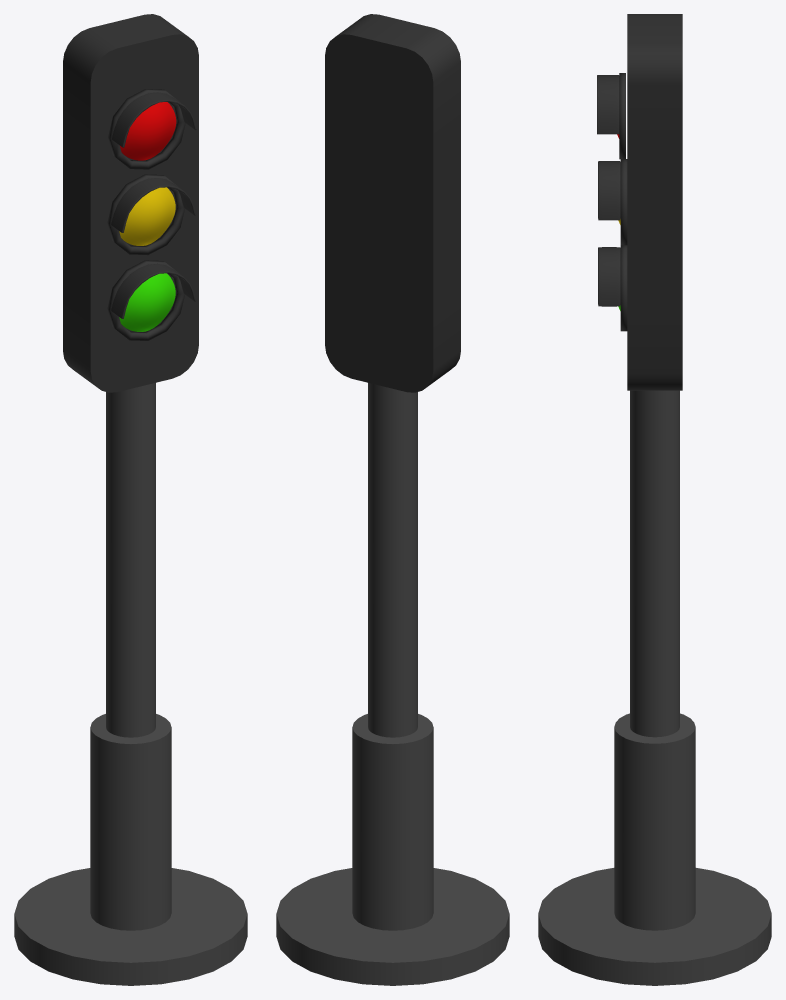
Rendered from traffic_PRETEXTURE_000.fbx.
3 views of the same model, side by side, from view 1: azimuth 30°, elevation 25°; view 2: azimuth 150°, elevation 25°; view 3: azimuth 270°, elevation 25° (orthographic).
Visible parts, largest first — view 1: 柱体, 立方体, 立方体.003, 立方体.009, 立方体.006, 立方体.007, 立方体.001, 立方体.004, 立方体.005, 立方体.008, 立方体.002; view 2: 柱体, 立方体; view 3: 柱体, 立方体, 立方体.002, 立方体.005, 立方体.008, 立方体.004, 立方体.007, 立方体.001.
Part boxes in pixels (x1,y1,x2,y2): 柱体: (14, 383, 247, 985); 立方体: (63, 14, 198, 392); 立方体.003: (120, 102, 176, 160); 立方体.009: (119, 273, 175, 331); 立方体.006: (119, 187, 175, 245); 立方体.007: (107, 260, 184, 340); 立方体.001: (108, 89, 185, 169); 立方体.004: (107, 174, 184, 255); 立方体.005: (111, 178, 196, 232); 立方体.008: (111, 263, 196, 318); 立方体.002: (111, 92, 196, 147); 柱体: (276, 383, 509, 985); 立方体: (325, 14, 460, 392); 柱体: (538, 390, 771, 985); 立方体: (627, 14, 682, 390); 立方体.002: (597, 75, 619, 134); 立方体.005: (598, 161, 620, 220); 立方体.008: (598, 247, 620, 306); 立方体.004: (620, 159, 627, 245); 立方体.007: (620, 245, 627, 331); 立方体.001: (619, 73, 625, 159).
Bounding box in the file's own units: 372 × 1594 × 372.
